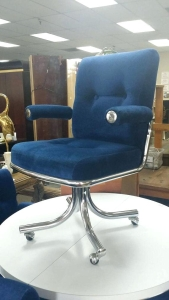chair: (10, 48, 159, 266)
